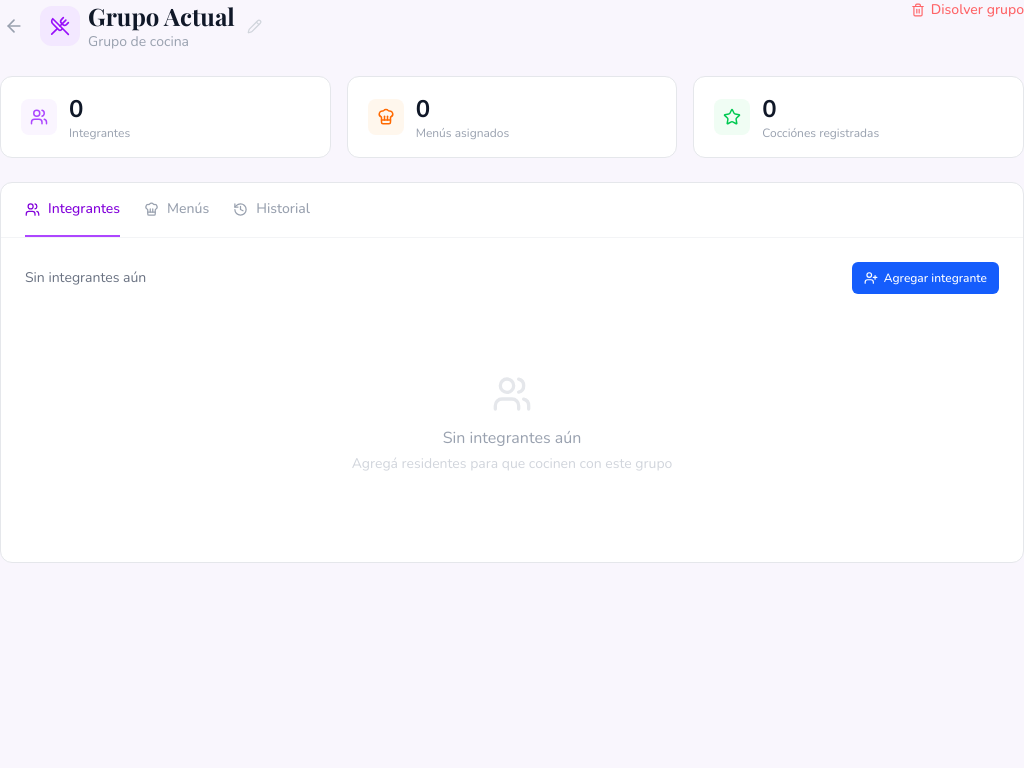
Scenario: GrupoDetailPage — modal "Agregar integrante" › mantiene el mensaje del backend como respaldo si hay una condición de carrera (409)
Click the button "Agregar integrante": (925, 278) 852,262 -> 999,294
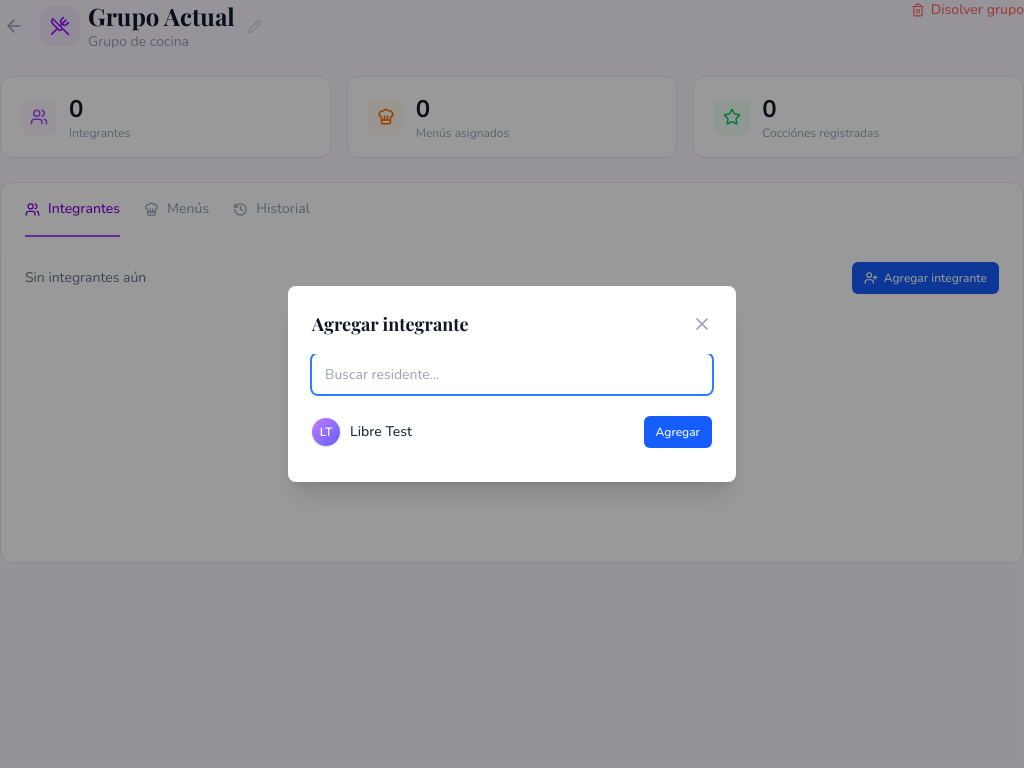
Click the button "Agregar": (678, 432) 644,416 -> 712,448
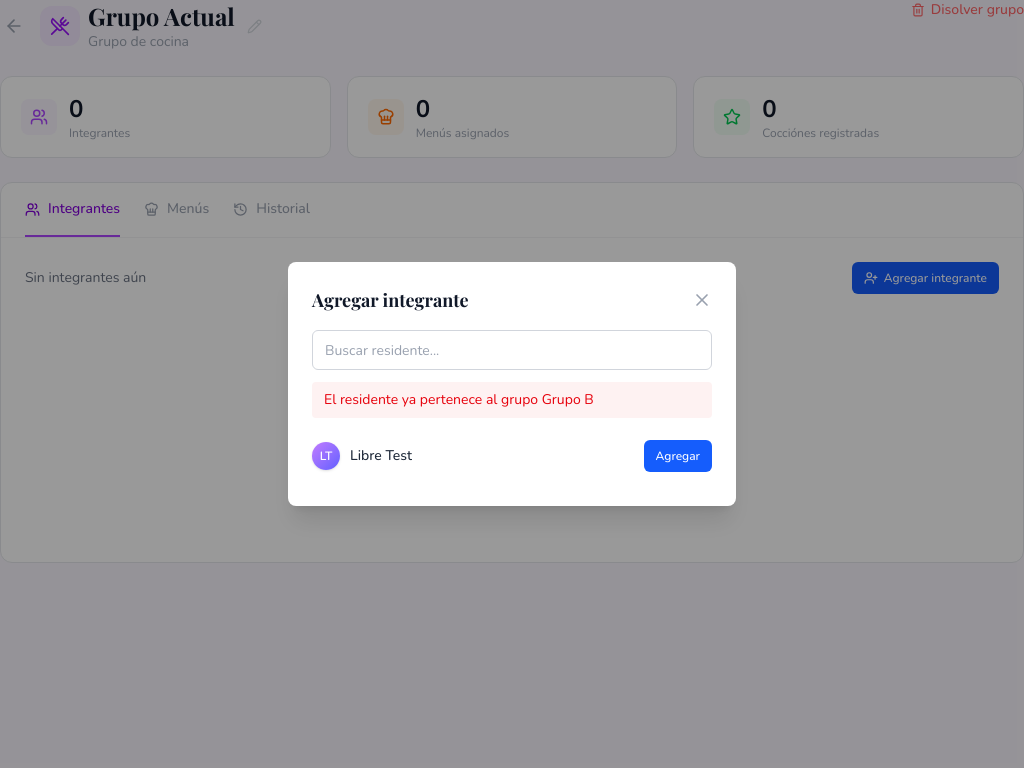
Now the text "El residente ya pertenece al grupo Grupo B" is shown, box 312,382 -> 712,418
